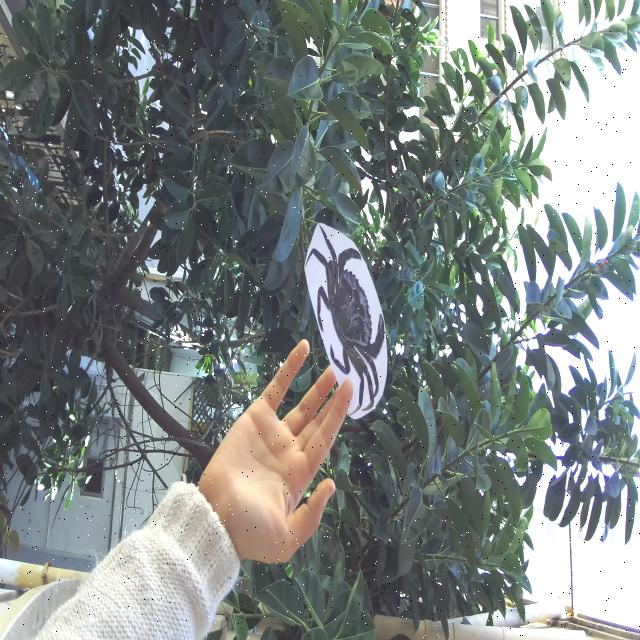European_Green_Crab: (295, 198, 402, 430)
